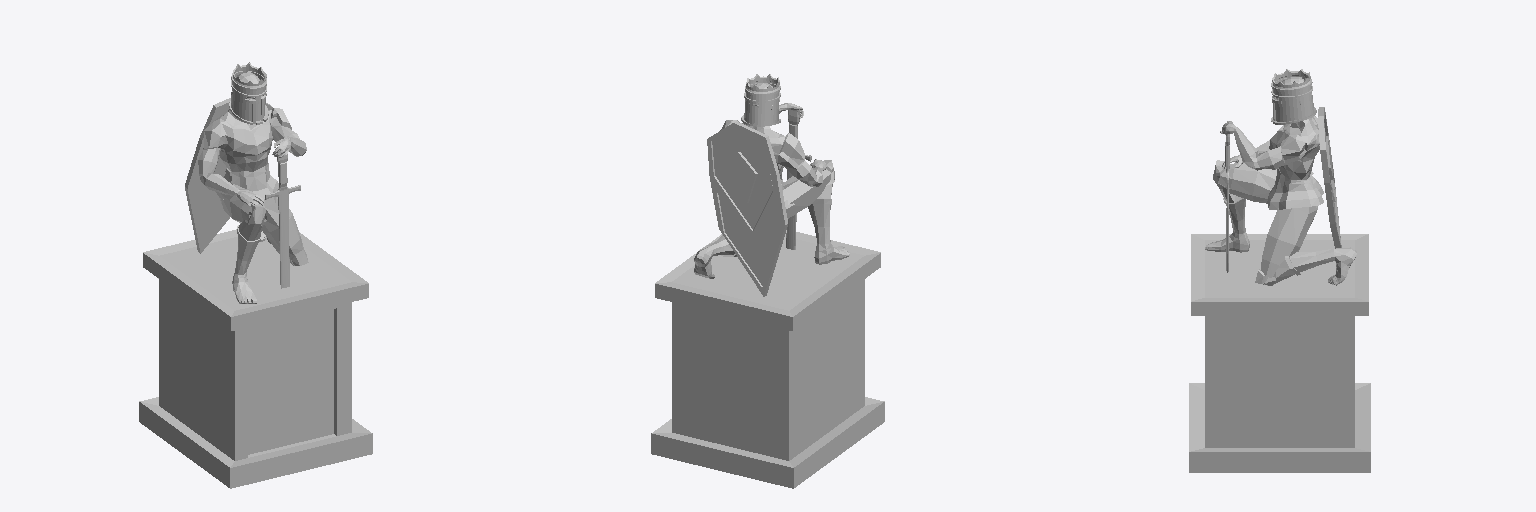
The model's file is statue.obj.
The picture shows the model from 3 angles: view 1: azimuth 30°, elevation 25°; view 2: azimuth 150°, elevation 25°; view 3: azimuth 270°, elevation 25°; orthographic projection.
Visible parts, largest first — view 1: statue:Cube statue:polySurface1, statue:HumanFBXASC046001 statue:polySurface1, statue:shieldFBXASC046001 statue:polySurface1, statue:CircleFBXASC046005 statue:polySurface1, statue:sword statue:polySurface1; view 2: statue:Cube statue:polySurface1, statue:shieldFBXASC046001 statue:polySurface1, statue:HumanFBXASC046001 statue:polySurface1, statue:CircleFBXASC046005 statue:polySurface1, statue:sword statue:polySurface1; view 3: statue:Cube statue:polySurface1, statue:HumanFBXASC046001 statue:polySurface1, statue:CircleFBXASC046005 statue:polySurface1, statue:shieldFBXASC046001 statue:polySurface1.
Boxes of the visible parts, box(x1,y1,x2,y2) form: statue:Cube statue:polySurface1: box(139, 229, 372, 488); statue:HumanFBXASC046001 statue:polySurface1: box(198, 72, 308, 303); statue:shieldFBXASC046001 statue:polySurface1: box(185, 98, 272, 253); statue:CircleFBXASC046005 statue:polySurface1: box(229, 62, 268, 124); statue:sword statue:polySurface1: box(265, 150, 300, 288); statue:Cube statue:polySurface1: box(651, 230, 884, 488); statue:shieldFBXASC046001 statue:polySurface1: box(707, 121, 787, 296); statue:HumanFBXASC046001 statue:polySurface1: box(694, 83, 849, 278); statue:CircleFBXASC046005 statue:polySurface1: box(741, 74, 780, 126); statue:sword statue:polySurface1: box(786, 110, 811, 249); statue:Cube statue:polySurface1: box(1189, 234, 1370, 472); statue:HumanFBXASC046001 statue:polySurface1: box(1205, 77, 1356, 285); statue:CircleFBXASC046005 statue:polySurface1: box(1271, 69, 1316, 124); statue:shieldFBXASC046001 statue:polySurface1: box(1318, 107, 1341, 248).
Size of the model in its own units: 93.6 by 229 by 104.